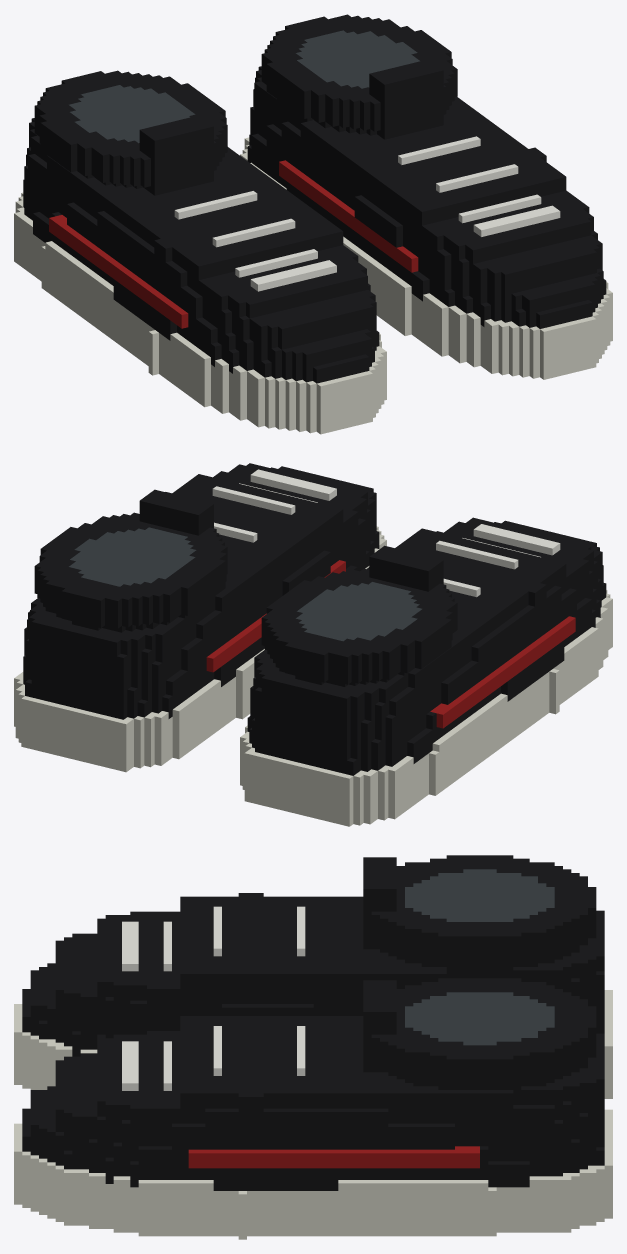
The model's file is heel_wheel_sneakers_out.glb.
3 views of the same model, one above another, from view 1: azimuth 30°, elevation 25°; view 2: azimuth 150°, elevation 25°; view 3: azimuth 270°, elevation 25° (orthographic). The views are drawn at different scales.
Parts seen in each view (by area): view 1: heel_wheel_sneakers_out:compound; view 2: heel_wheel_sneakers_out:compound; view 3: heel_wheel_sneakers_out:compound.
Part boxes in pixels (<box>): heel_wheel_sneakers_out:compound: <box>14,14,612,434</box>; heel_wheel_sneakers_out:compound: <box>14,463,612,826</box>; heel_wheel_sneakers_out:compound: <box>14,855,612,1239</box>.
Bounding box in the file's own units: 0.248 × 0.116 × 0.288.
